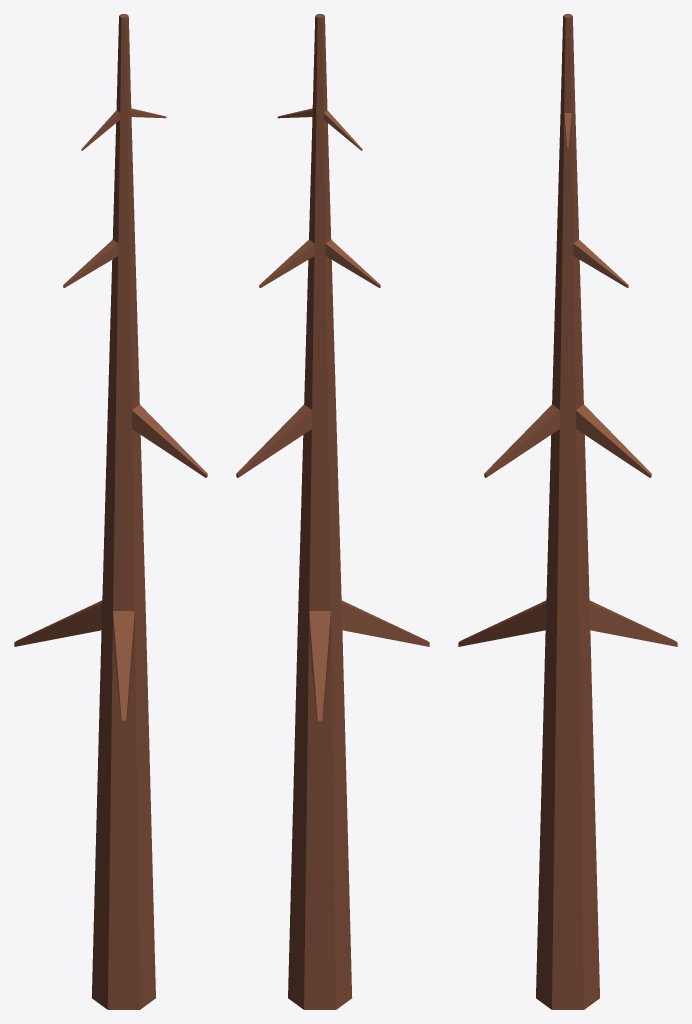
File: Conifer_Dead.fbx
The picture shows the model from 3 angles, left to right: view 1: azimuth 30°, elevation 25°; view 2: azimuth 150°, elevation 25°; view 3: azimuth 270°, elevation 25°; orthographic projection.
Parts seen in each view (by area): view 1: Conifer_Dead; view 2: Conifer_Dead; view 3: Conifer_Dead.
Boxes of the visible parts, <box> form: Conifer_Dead: <box>14,14,207,1009</box>; Conifer_Dead: <box>236,14,429,1009</box>; Conifer_Dead: <box>458,14,677,1009</box>.
Size of the model in its own units: 0.8771 by 8 by 1.62.
